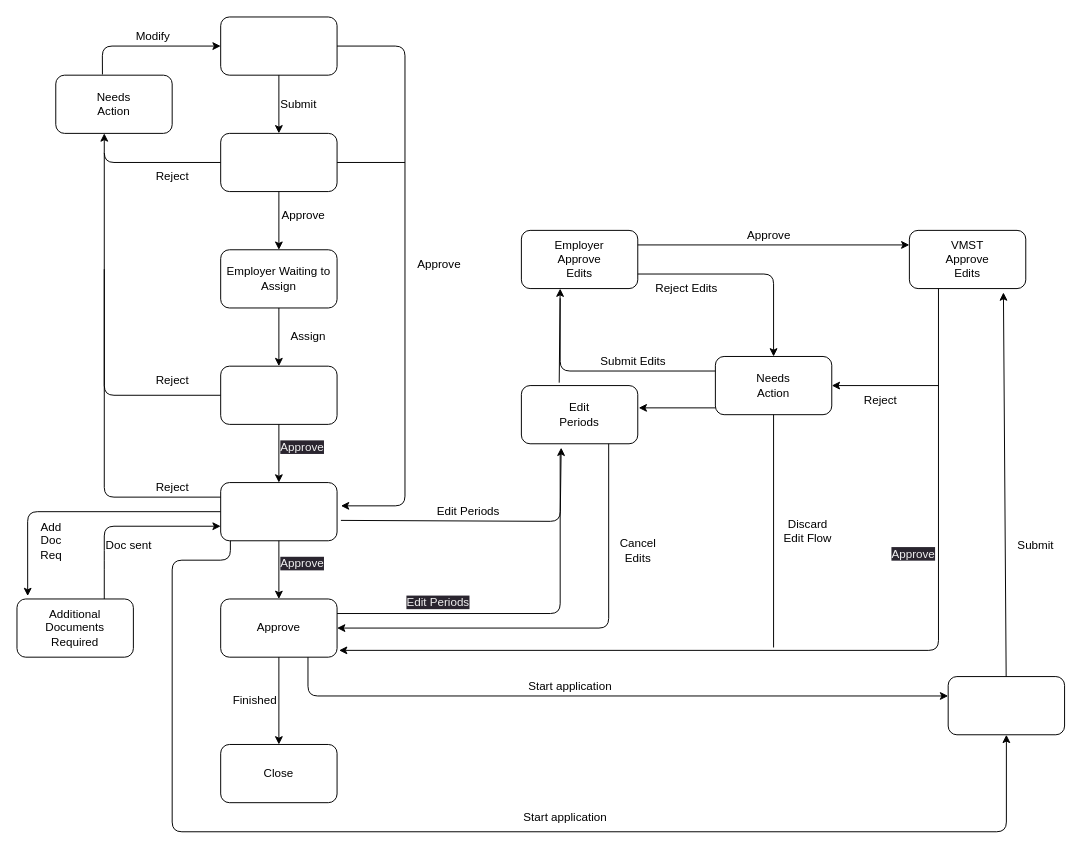
Image size: 1082x857. Some labels were removed from this diagram. Each missing label, with the centre of its shape:
Draft: pixel 278 45
Employer Approval: pixel 278 394
Other Parent Approval: pixel 278 162
Residence Grant (Dvalarstyrk): pixel 1006 705
VMST Approval: pixel 278 511
